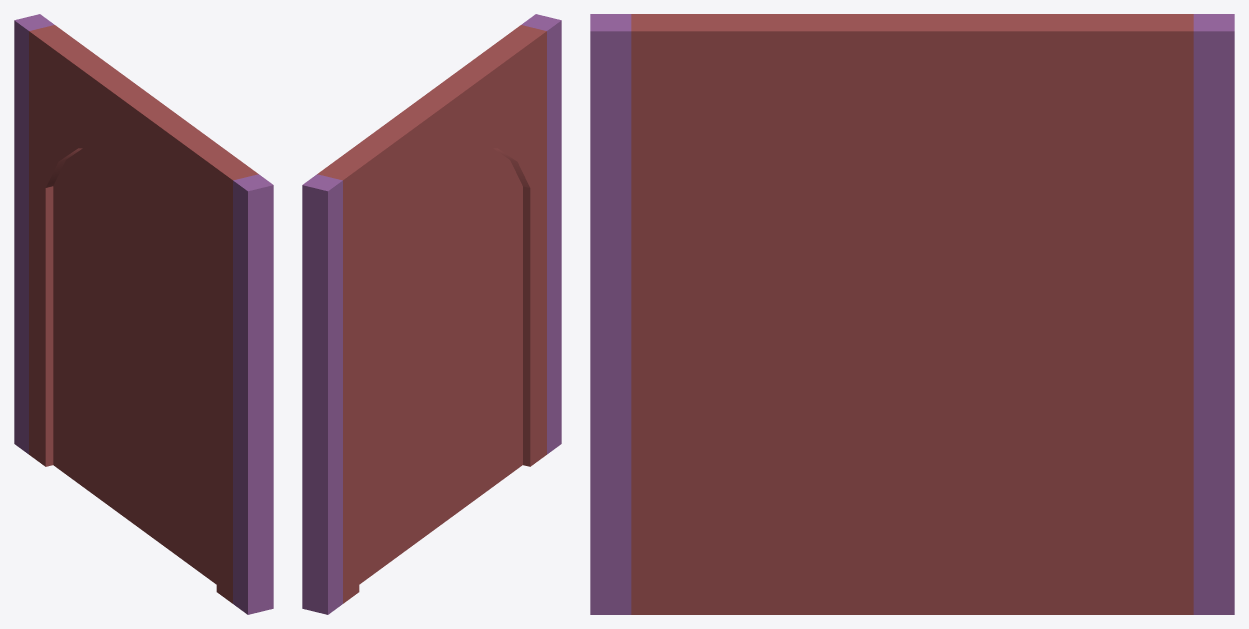
The model's file is celling_wall_02.fbx.
3 views of the same model, side by side, from view 1: azimuth 30°, elevation 25°; view 2: azimuth 150°, elevation 25°; view 3: azimuth 270°, elevation 25° (orthographic). The views are drawn at different scales.
Parts seen in each view (by area): view 1: polySurface9, polySurface11, polySurface10; view 2: polySurface9, polySurface10, polySurface11; view 3: polySurface9, polySurface10, polySurface11.
Boxes of the visible parts, <box> form: polySurface9: <box>29,25,258,603</box>; polySurface11: <box>233,174,273,614</box>; polySurface10: <box>14,14,54,454</box>; polySurface9: <box>317,25,546,603</box>; polySurface10: <box>302,174,342,614</box>; polySurface11: <box>521,14,561,454</box>; polySurface9: <box>631,14,1193,614</box>; polySurface10: <box>1193,14,1234,614</box>; polySurface11: <box>590,14,631,614</box>.
Bounding box in the file's own units: 0.0637 × 1 × 1.
